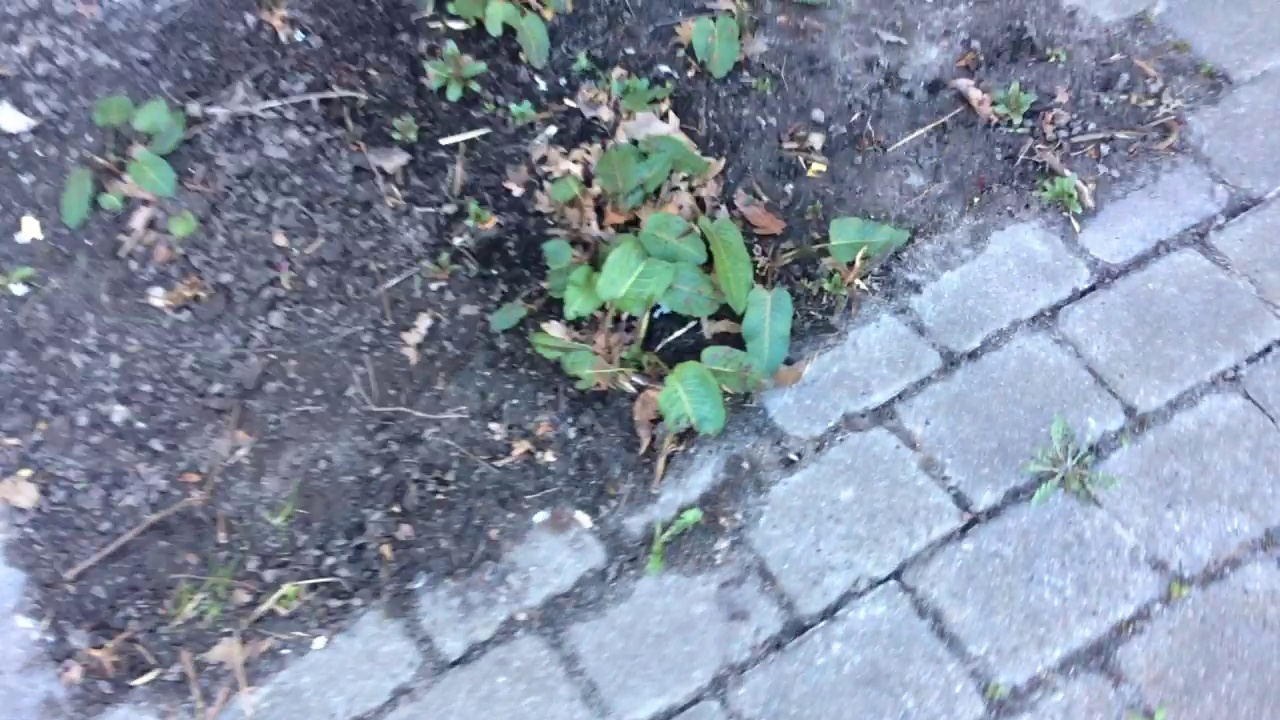rumex: (539, 128, 903, 458), (55, 91, 201, 243), (448, 1, 559, 78), (690, 1, 752, 81)
